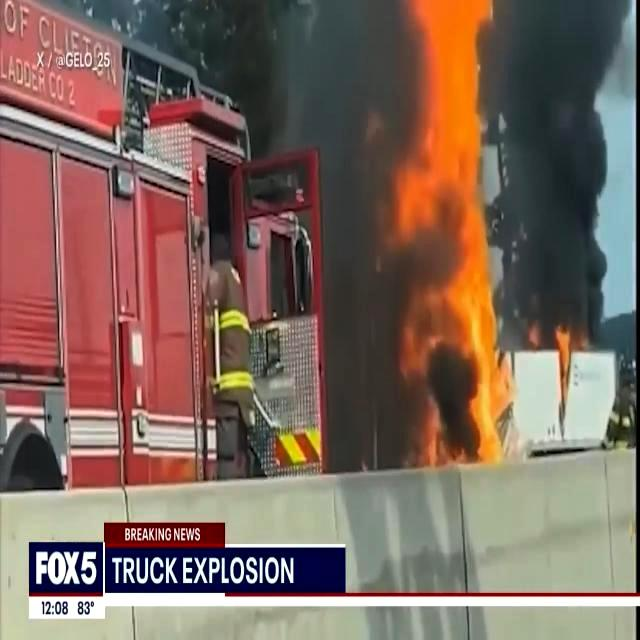fire: (409, 3, 506, 469), (270, 428, 312, 464)
